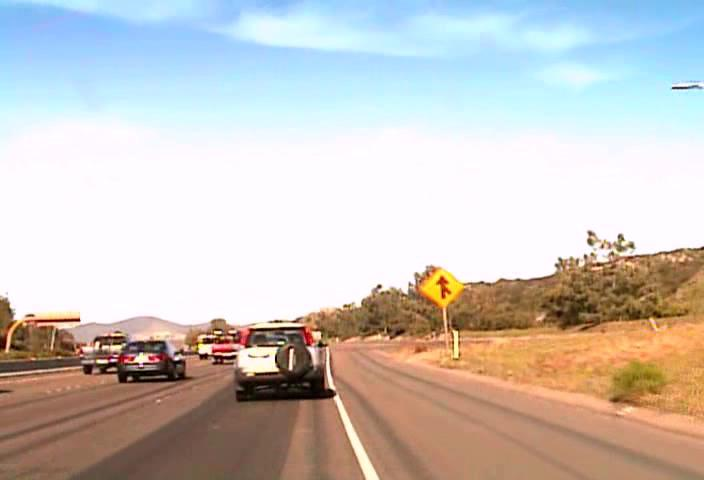merge: (418, 267, 464, 308)
